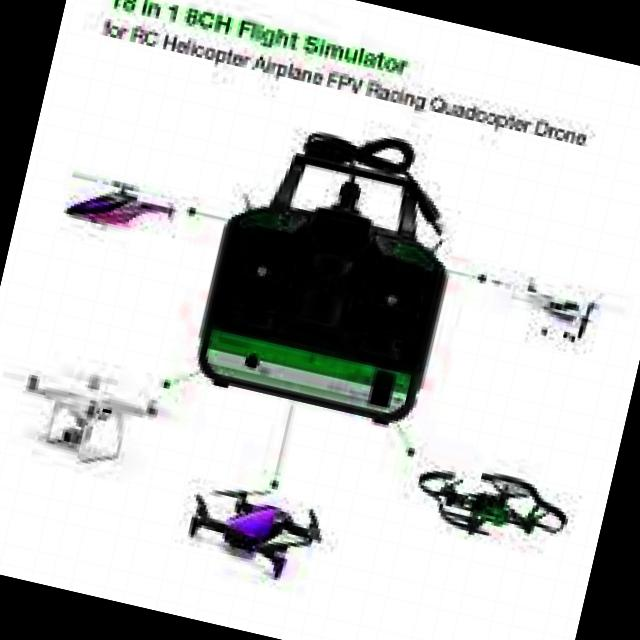drone: (0, 331, 181, 498), (164, 451, 348, 602), (396, 446, 594, 566), (444, 244, 620, 360)
